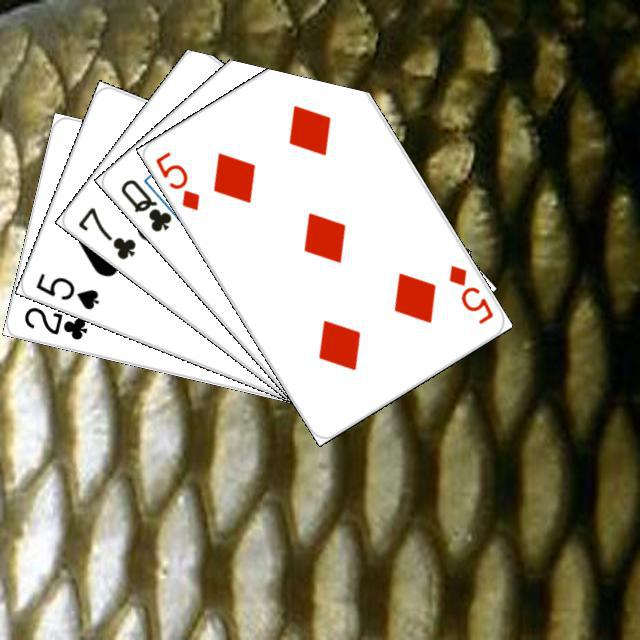2c: (19, 302, 89, 342)
5d: (443, 259, 495, 326), (150, 146, 202, 212)
5s: (31, 268, 101, 312)
7c: (72, 202, 138, 262)
Qc: (115, 172, 186, 234)
